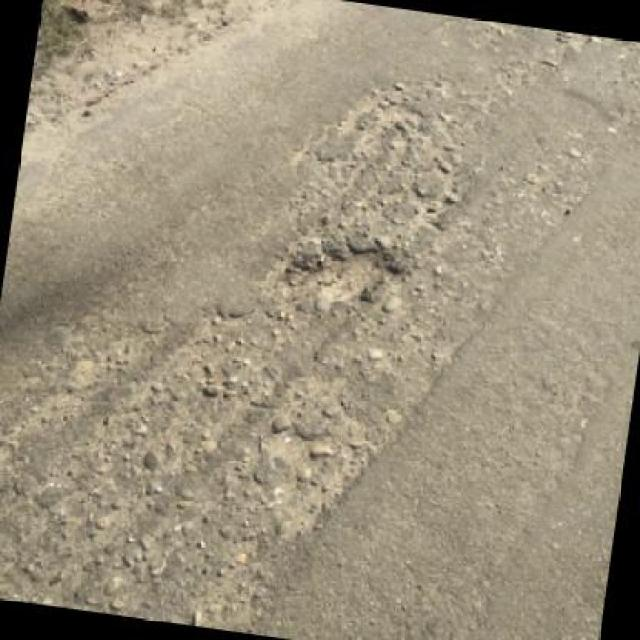pothole: (288, 231, 406, 312)
